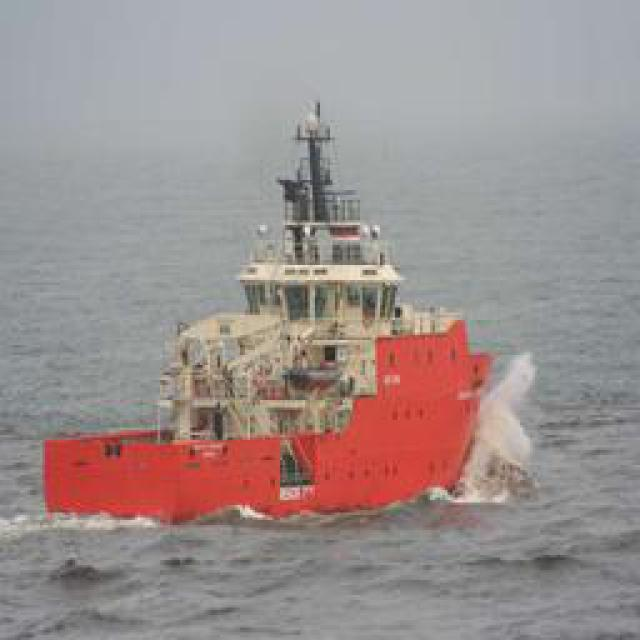Ship: (56, 89, 539, 524)
